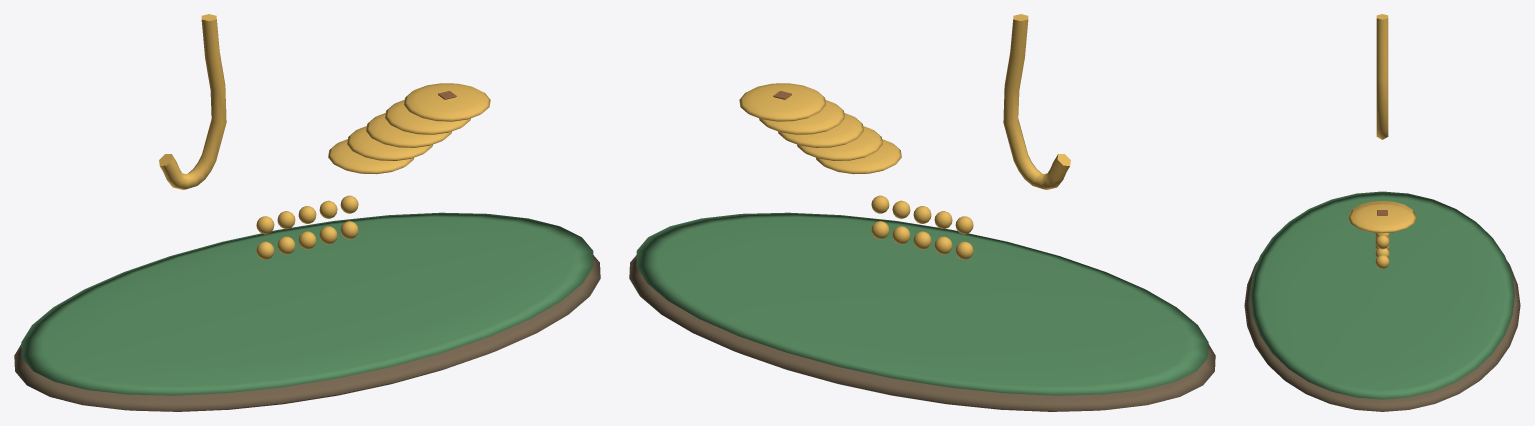
The model's file is complete-second-little-money-unit.glb.
3 renders of one model, left to right at view 1: azimuth 30°, elevation 25°; view 2: azimuth 150°, elevation 25°; view 3: azimuth 270°, elevation 25°, orthographic. The views are drawn at different scales.
Visible parts, largest first — view 1: complete-second-little-money-unit_surface_01, complete-second-little-money-unit_surface_02, complete-second-little-money-unit_surface_00; view 2: complete-second-little-money-unit_surface_01, complete-second-little-money-unit_surface_02, complete-second-little-money-unit_surface_00; view 3: complete-second-little-money-unit_surface_01, complete-second-little-money-unit_surface_00, complete-second-little-money-unit_surface_02.
Boxes of the visible parts, <box> form: complete-second-little-money-unit_surface_01: <box>21,212,593,395</box>; complete-second-little-money-unit_surface_02: <box>159,14,490,259</box>; complete-second-little-money-unit_surface_00: <box>14,255,600,411</box>; complete-second-little-money-unit_surface_01: <box>636,212,1208,395</box>; complete-second-little-money-unit_surface_02: <box>739,14,1070,259</box>; complete-second-little-money-unit_surface_00: <box>629,255,1215,411</box>; complete-second-little-money-unit_surface_01: <box>1250,191,1514,399</box>; complete-second-little-money-unit_surface_00: <box>1244,261,1520,411</box>; complete-second-little-money-unit_surface_02: <box>1348,14,1416,268</box>.
Bounding box in the file's own units: 4.56 × 2.64 × 2.5.
